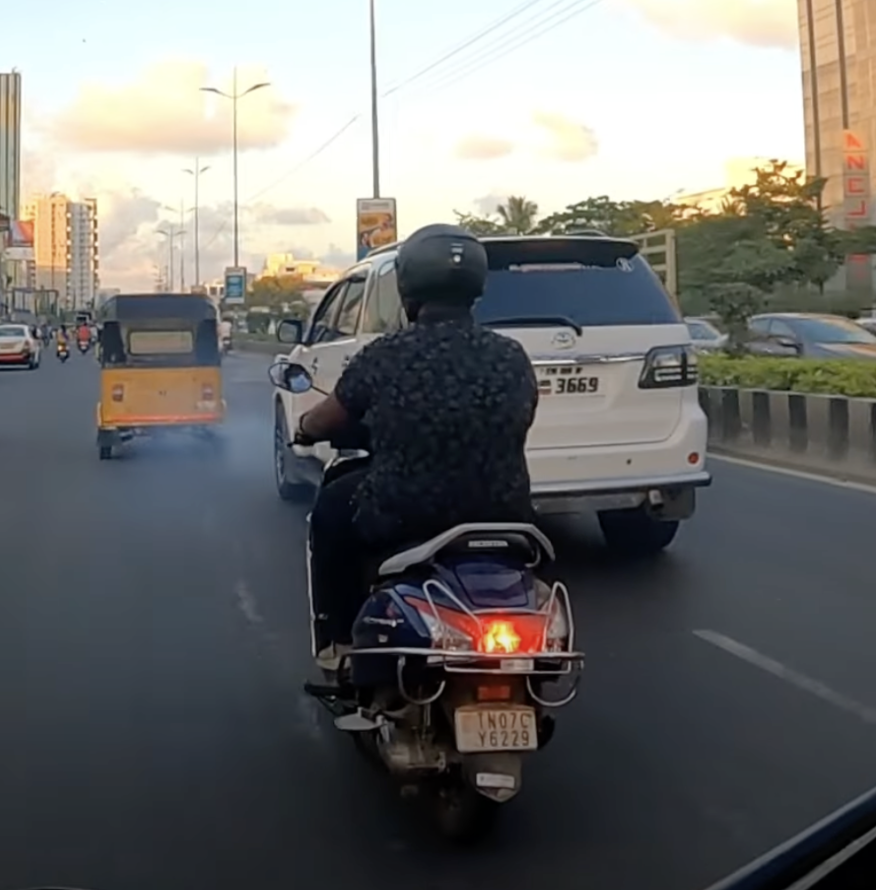motor: (269, 367, 584, 808)
number: (456, 704, 537, 751)
with helmet: (395, 225, 485, 324)
